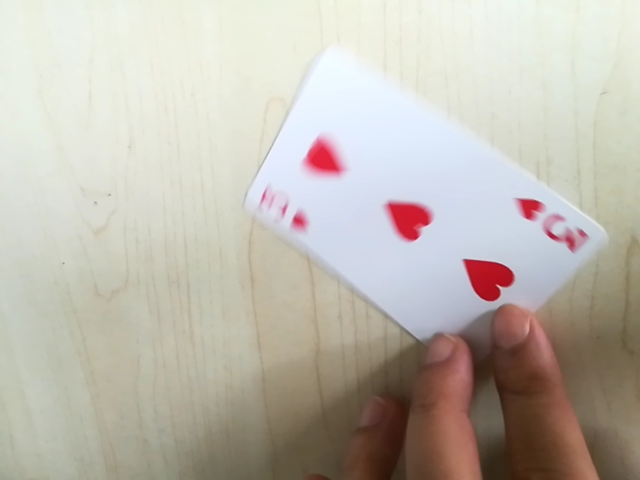hx 3: (516, 192, 594, 259), (253, 184, 307, 234)
